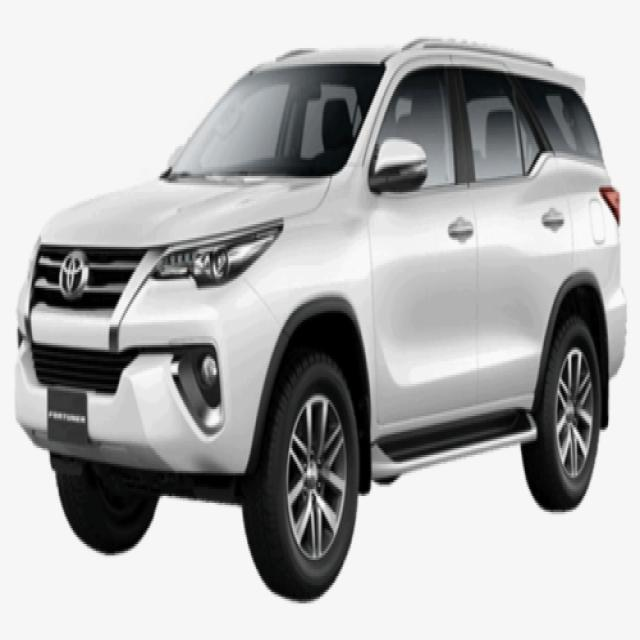light_vehicle: (15, 40, 628, 600)
